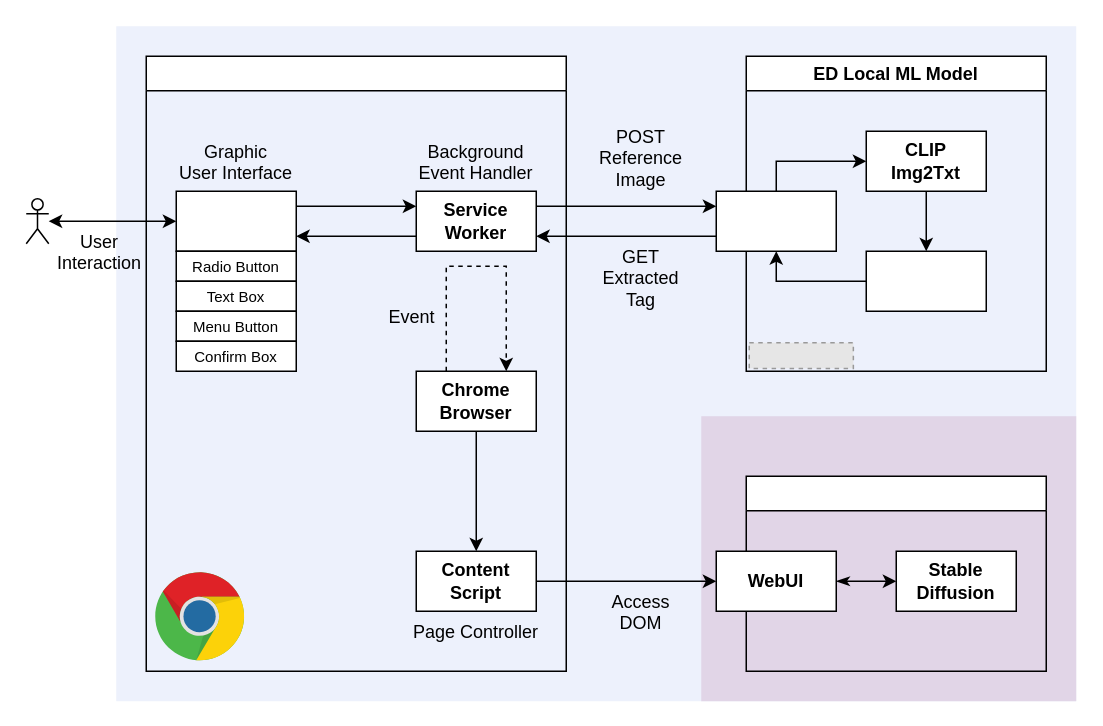
The diagram is 1103 pixels wide and 726 high, and some of its shapes have lost their labels. Grey dashed boxes stand in for pictures. Each missing label, with the box of its shape:
ED Chrome Extension: (145, 55, 566, 671)
HTTP API (JSON): (715, 190, 836, 251)
Pop-Up: (175, 190, 296, 251)
Stable Diffusion WebUI: (745, 475, 1046, 671)
Transformer Txt2Tag: (865, 250, 986, 311)
